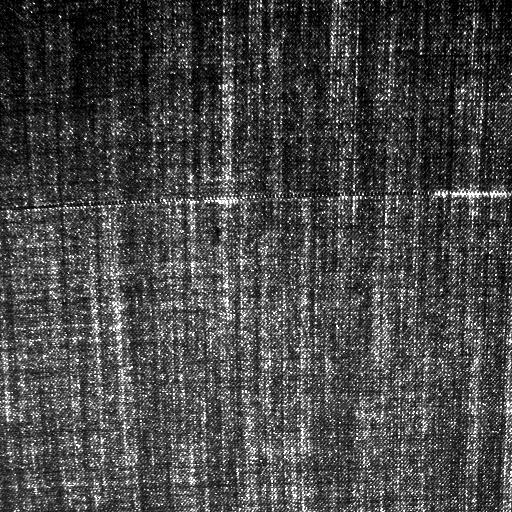fabric_broken_pick: (145, 180, 503, 206)
